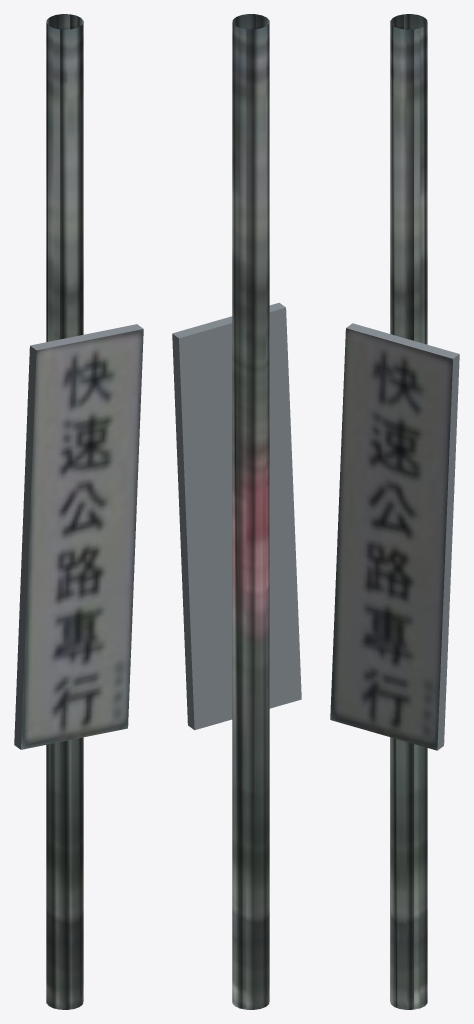
Rendered from Sign15.fbx.
The picture shows the model from 3 angles, left to right: view 1: azimuth 30°, elevation 25°; view 2: azimuth 210°, elevation 25°; view 3: azimuth 330°, elevation 25°; orthographic projection.
Visible parts, largest first — view 1: Sign12; view 2: Sign12; view 3: Sign12.
Part boxes in pixels (x1,y1,x2,y2): Sign12: [14, 14, 143, 1009]; Sign12: [172, 14, 301, 1009]; Sign12: [330, 14, 459, 1009].
Size of the model in its own units: 0.2787 by 2.13 by 0.1051.
Materials: 1 (1 with a texture image).
